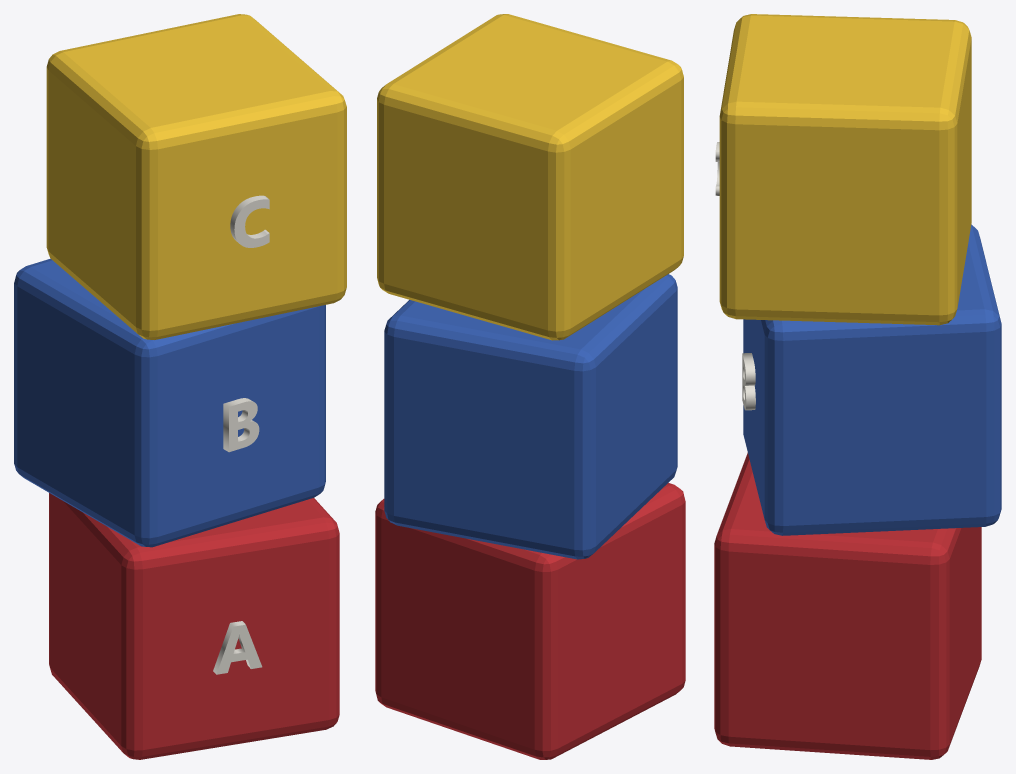
File: top_blocks.fbx
3 views of the same model, side by side, from view 1: azimuth 30°, elevation 25°; view 2: azimuth 150°, elevation 25°; view 3: azimuth 270°, elevation 25° (orthographic). The views are drawn at different scales.
Visible parts, largest first — view 1: yellow_1, blue_1, red_1, cream_1; view 2: yellow_1, blue_1, red_1; view 3: yellow_1, red_1, blue_1, cream_1.
Part boxes in pixels (left/top/right/bottom): yellow_1: left=46, top=14, right=346, bottom=339; blue_1: left=14, top=258, right=325, bottom=547; red_1: left=49, top=493, right=339, bottom=759; cream_1: left=213, top=195, right=269, bottom=674; yellow_1: left=377, top=14, right=683, bottom=340; blue_1: left=384, top=274, right=677, bottom=559; red_1: left=375, top=483, right=685, bottom=759; yellow_1: left=719, top=14, right=971, bottom=325; red_1: left=714, top=452, right=981, bottom=759; blue_1: left=743, top=224, right=1001, bottom=535; cream_1: left=715, top=142, right=755, bottom=410.
Bounding box in the file's own units: 0.0211 × 0.0543 × 0.0218.
